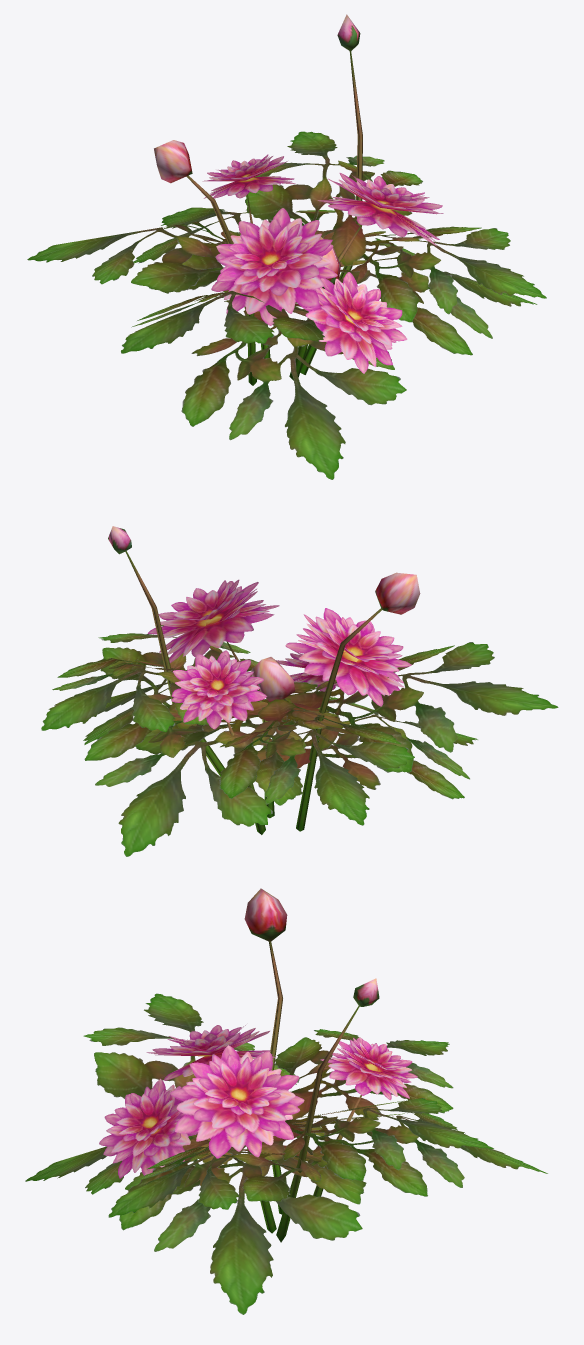
Rendered from wm_灌木天竺兰01.fbx.
3 renders of one model, top to bottom at view 1: azimuth 30°, elevation 25°; view 2: azimuth 150°, elevation 25°; view 3: azimuth 270°, elevation 25°, orthographic.
Parts seen in each view (by area): view 1: wm_灌木天竺兰01; view 2: wm_灌木天竺兰01; view 3: wm_灌木天竺兰01.
Part boxes in pixels (left/top/right/bottom): wm_灌木天竺兰01: left=27, top=14, right=546, bottom=479; wm_灌木天竺兰01: left=41, top=526, right=558, bottom=856; wm_灌木天竺兰01: left=25, top=888, right=547, bottom=1314.
Bounding box in the file's own units: 217 × 127 × 208.
